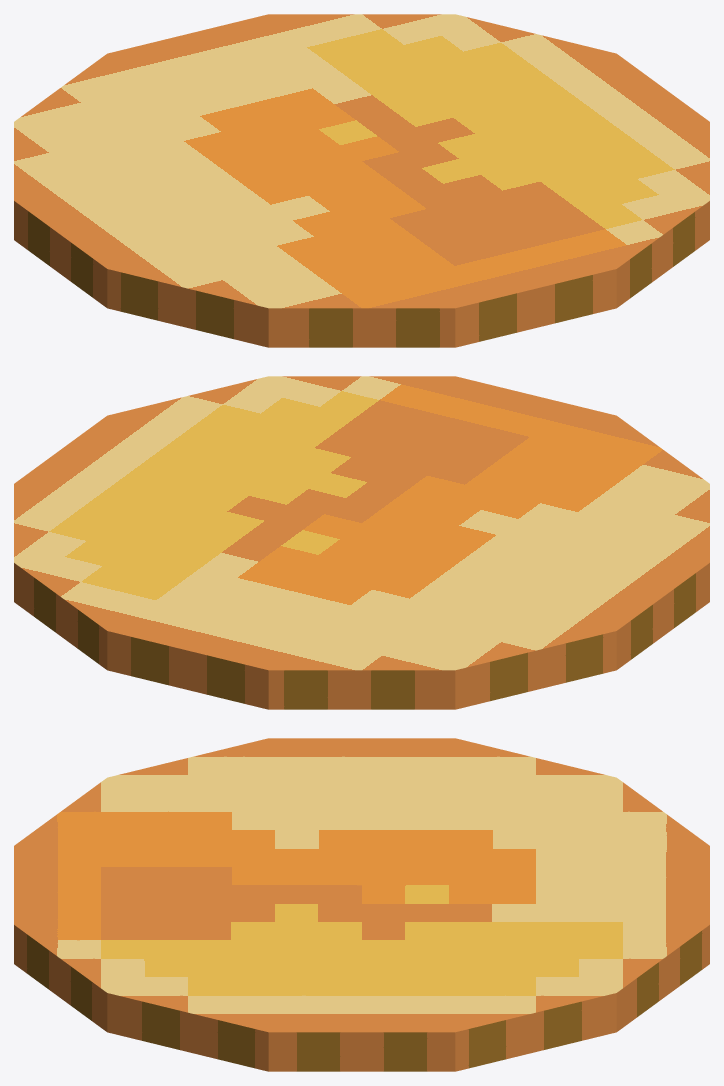
Rendered from Coin.obj.
3 views of the same model, one above another, from view 1: azimuth 30°, elevation 25°; view 2: azimuth 150°, elevation 25°; view 3: azimuth 270°, elevation 25° (orthographic).
Visible parts, largest first — view 1: cylinder; view 2: cylinder; view 3: cylinder.
Boxes of the visible parts, box(x1,y1,x2,y2) form: cylinder: box(14, 14, 709, 347); cylinder: box(14, 376, 709, 709); cylinder: box(14, 738, 709, 1071).
Bounding box in the file's own units: 1 × 0.0625 × 1.
1 material, 1 textured.
